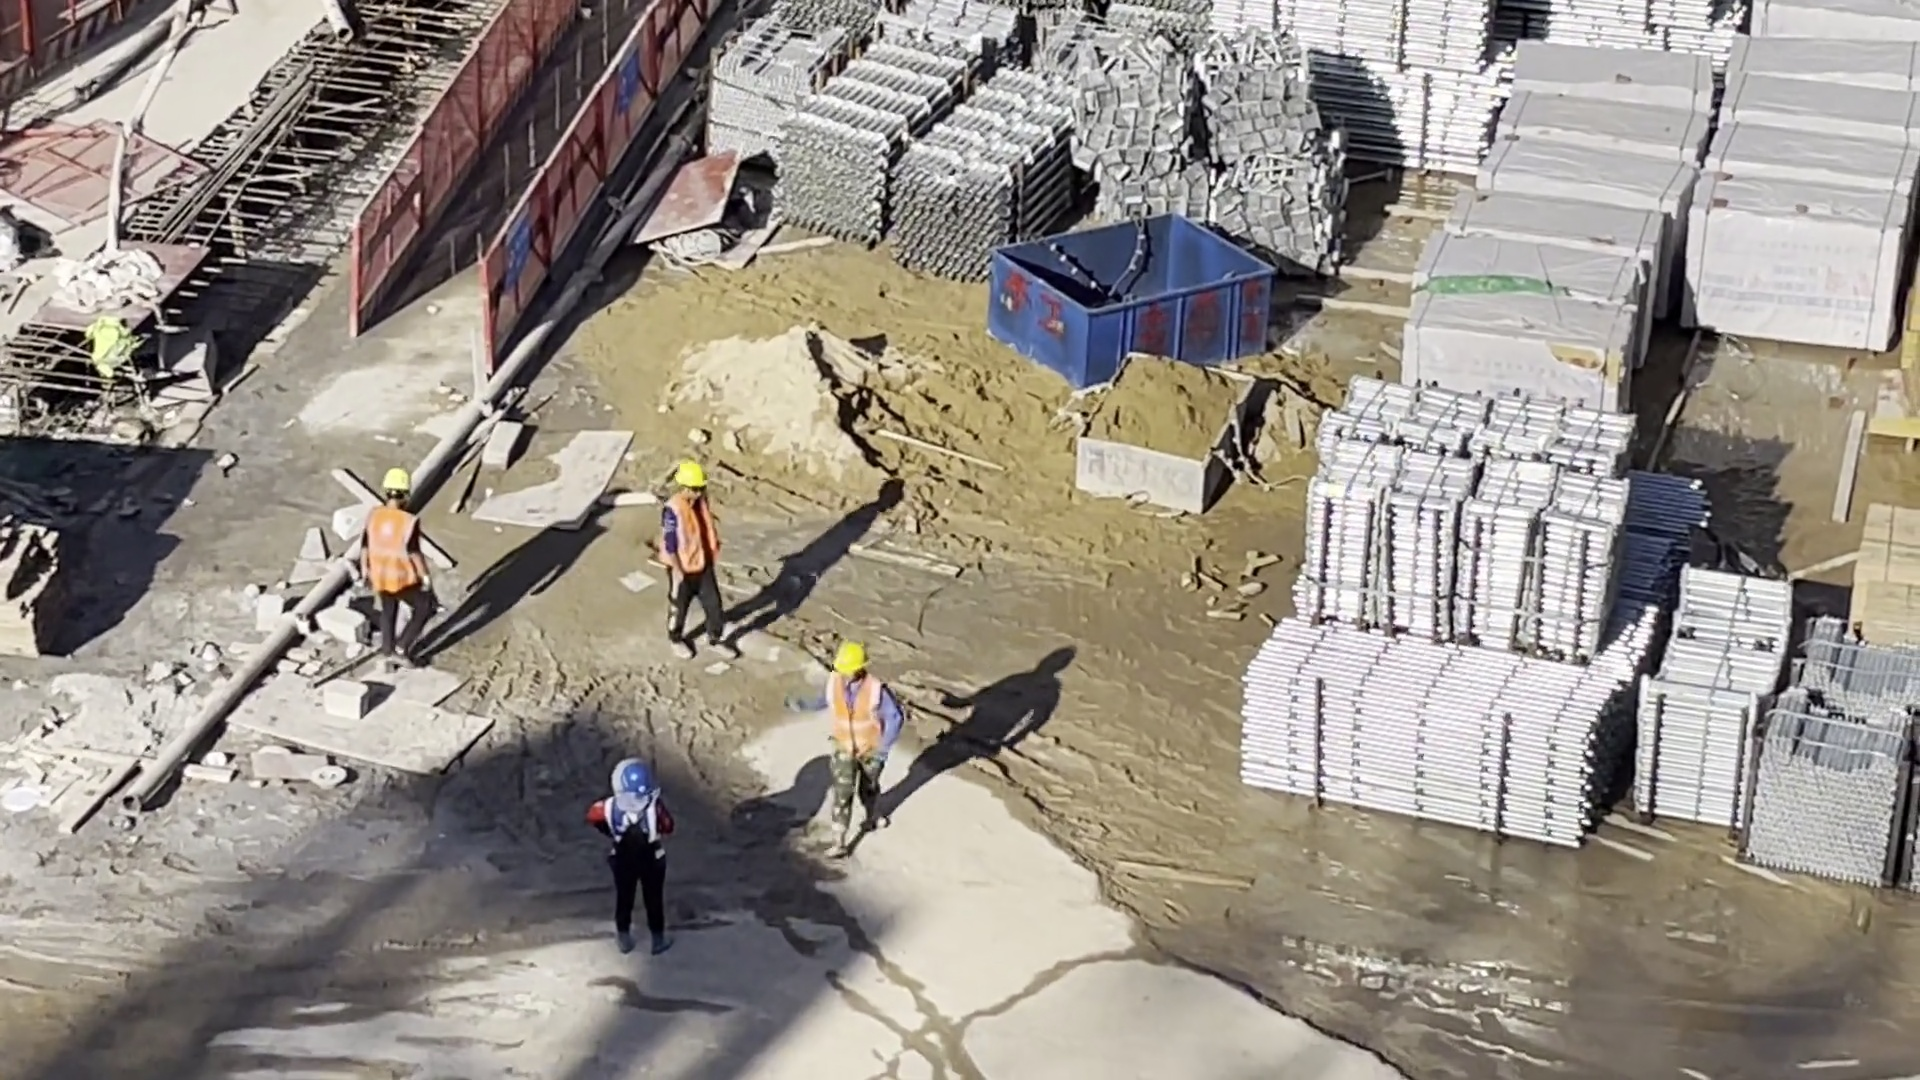board: (1848, 495, 1920, 634)
fence: (365, 1, 720, 326)
helmet: (834, 642, 872, 676), (621, 762, 653, 798), (676, 463, 710, 488), (380, 470, 412, 493)
hopper: (992, 212, 1265, 393), (1074, 356, 1258, 516)
person: (593, 765, 677, 956), (825, 643, 894, 853), (363, 465, 433, 670), (663, 470, 735, 657)
scaffold: (1239, 623, 1620, 853), (1309, 380, 1623, 654), (792, 49, 1070, 272), (1220, 1, 1504, 179), (1743, 631, 1920, 882), (1633, 566, 1779, 829), (1505, 1, 1735, 76)
slogan: (504, 206, 529, 281), (620, 47, 640, 116)
vest: (824, 680, 885, 761), (363, 510, 417, 599), (665, 497, 720, 579), (606, 796, 652, 851)
